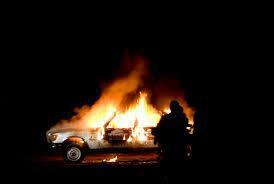fire: (59, 75, 198, 146)
